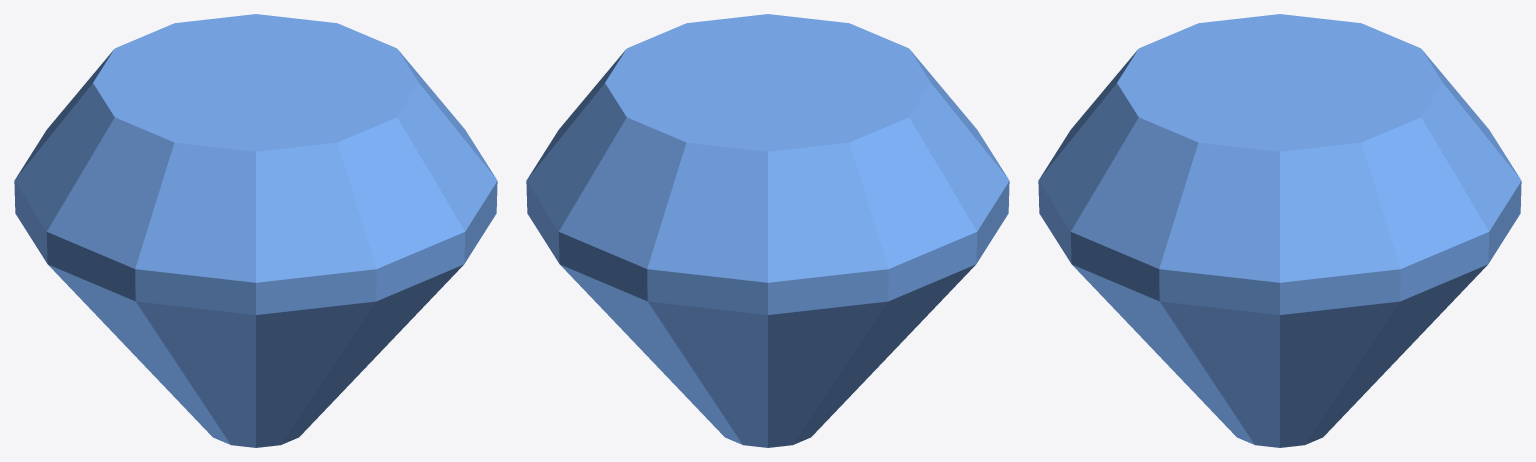
Rendered from Crystal_Blue_D.fbx.
3 views of the same model, side by side, from view 1: azimuth 30°, elevation 25°; view 2: azimuth 150°, elevation 25°; view 3: azimuth 270°, elevation 25° (orthographic).
Parts seen in each view (by area): view 1: Crystal_Blue_D; view 2: Crystal_Blue_D; view 3: Crystal_Blue_D.
Part boxes in pixels (left/top/right/bottom): Crystal_Blue_D: left=14, top=14, right=497, bottom=447; Crystal_Blue_D: left=526, top=14, right=1009, bottom=447; Crystal_Blue_D: left=1038, top=14, right=1521, bottom=447.
Bounding box in the file's own units: 91.8 × 72.12 × 91.8.
